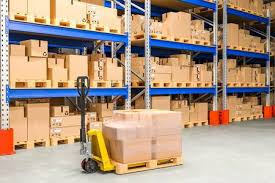Pallet Jack: (76, 75, 183, 176)
